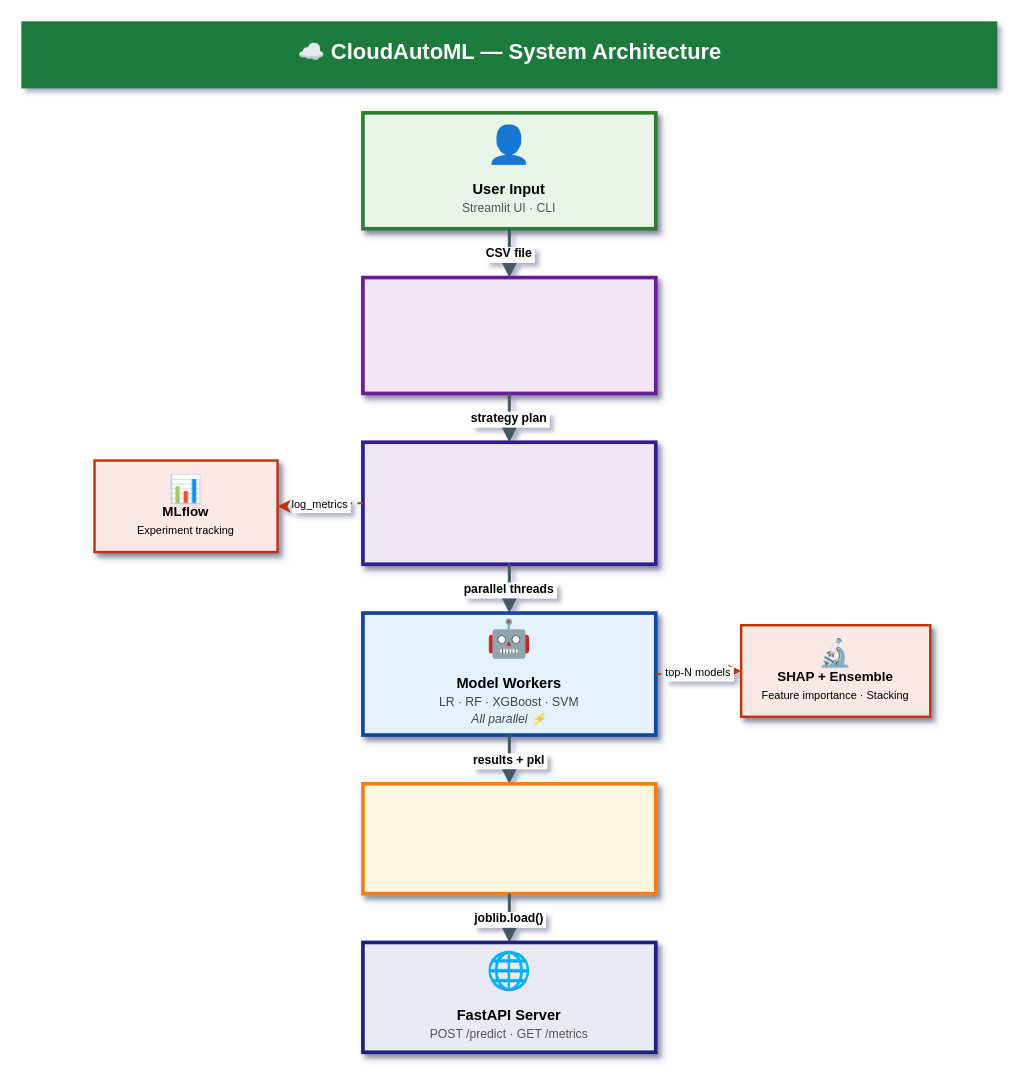
This 1025x1091 diagram has some shape labels left out. Here are the shapes that lost their labels. From the top down, the centre of each, then its label:
At pixel 510 336: "🔍 Smart Analysis Analyzer · Meta-ML · PerfOpt · ResMgr".
At pixel 510 504: "⚙️ Orchestrator Preprocess · HPO (Optuna) · Parallel Train · Evaluate + SHAP".
At pixel 510 840: "💾 Artifact Store best_model.pkl · deploy_meta.json".
